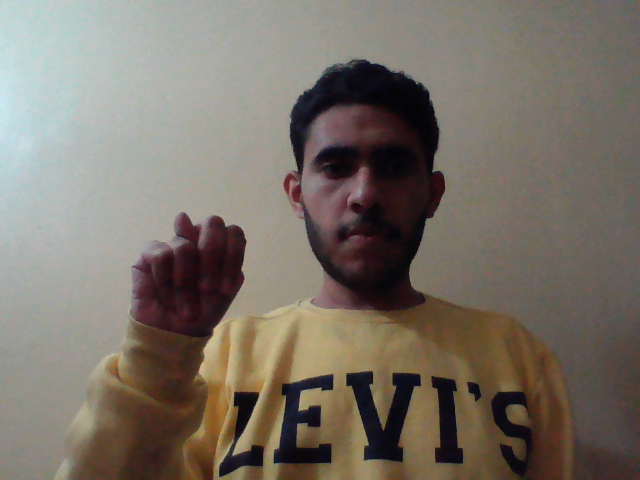N: (110, 207, 253, 350)
